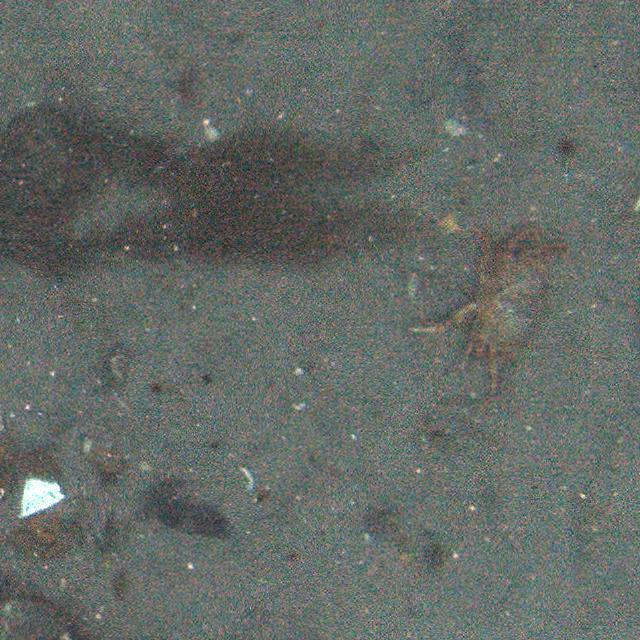crab: (429, 209, 559, 380)
